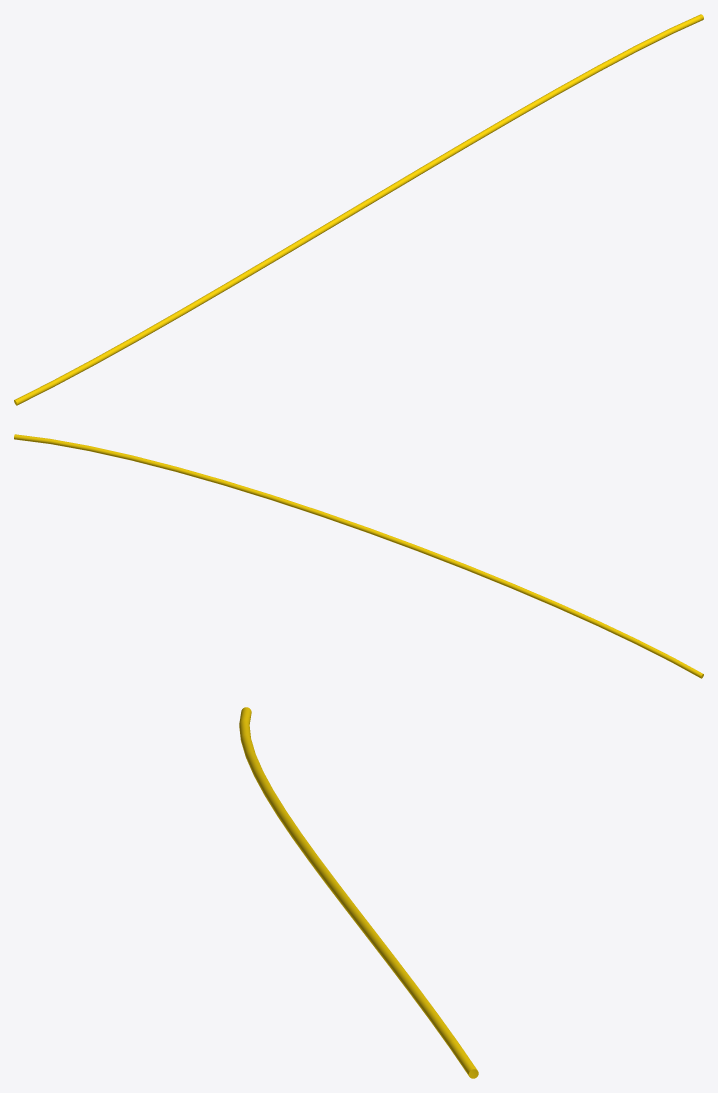
File: Event_421115418_track_177.fbx
3 renders of one model, top to bottom at view 1: azimuth 30°, elevation 25°; view 2: azimuth 150°, elevation 25°; view 3: azimuth 270°, elevation 25°, orthographic. The views are drawn at different scales.
Visible parts, largest first — view 1: Model; view 2: Model; view 3: Model.
Boxes of the visible parts, x1=… form: Model: x1=14, y1=14, x2=703, y2=405; Model: x1=14, y1=434, x2=703, y2=678; Model: x1=239, y1=707, x2=478, y2=1078.
Bounding box in the file's own units: 5.59 × 1.11 × 0.9182.
